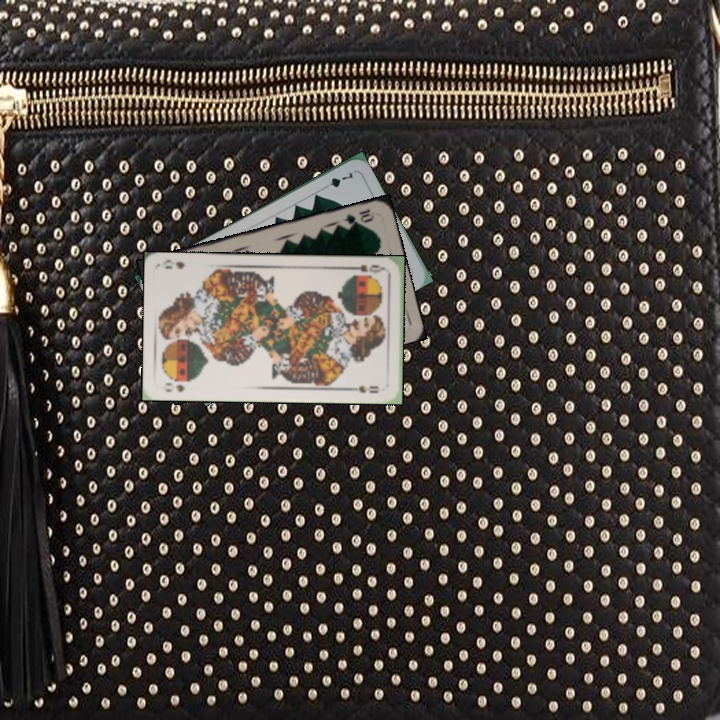G10: (339, 204, 377, 228)
G7: (318, 168, 355, 192)
SO: (347, 261, 388, 276), (161, 379, 187, 395)
